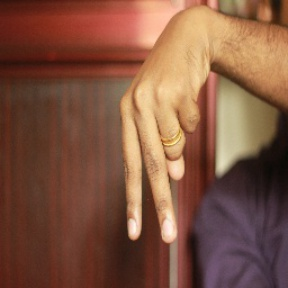Y: (111, 57, 203, 246)
